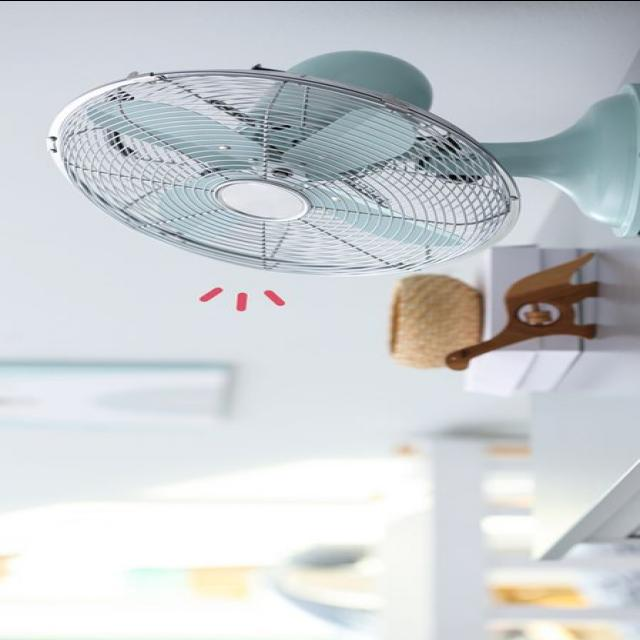fan: (41, 46, 634, 278)
